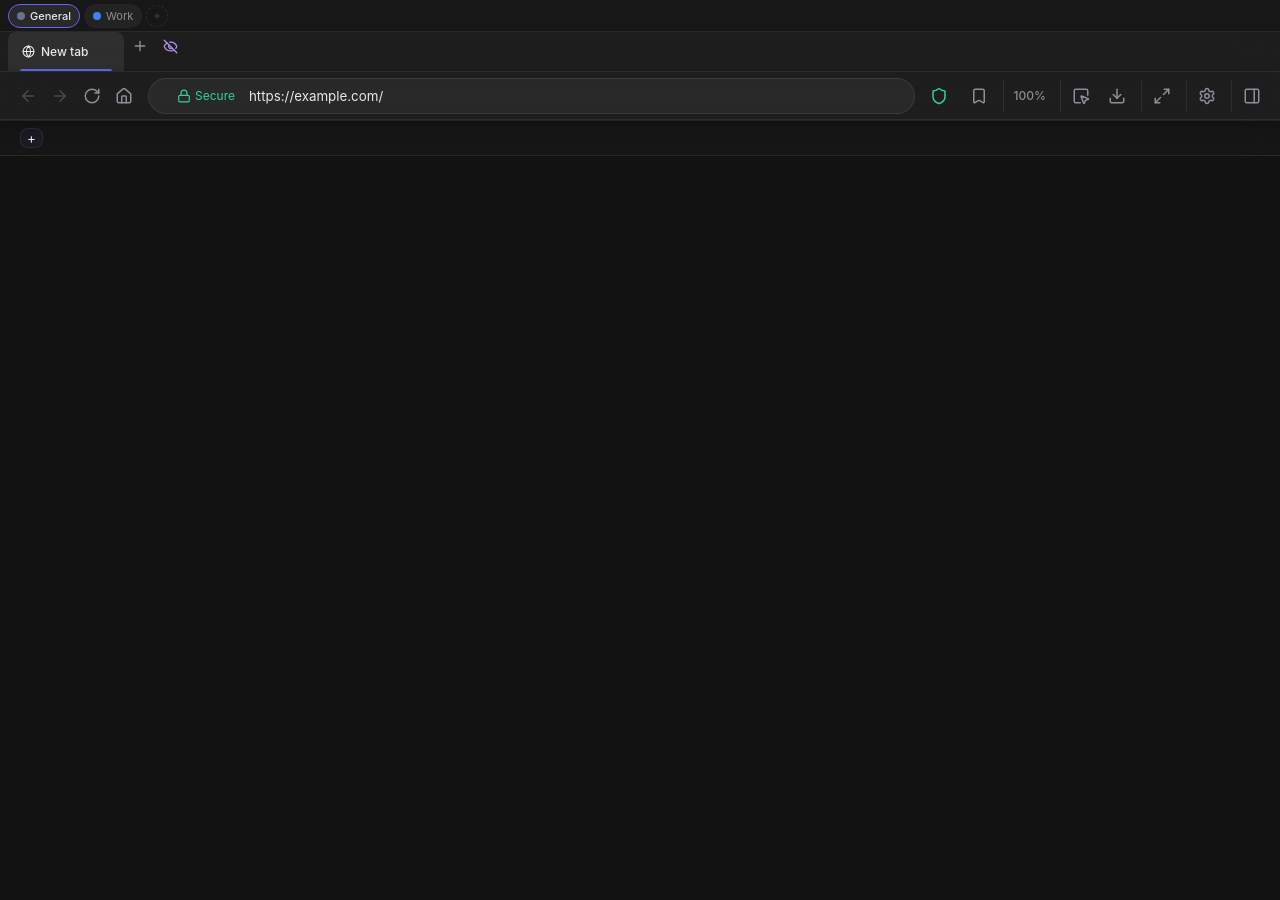
Test: App › the sidebar no longer exposes a Downloads tab
Click the button named "toggle sidebar": (1252, 96) x1=1236 y1=80 x2=1268 y2=112
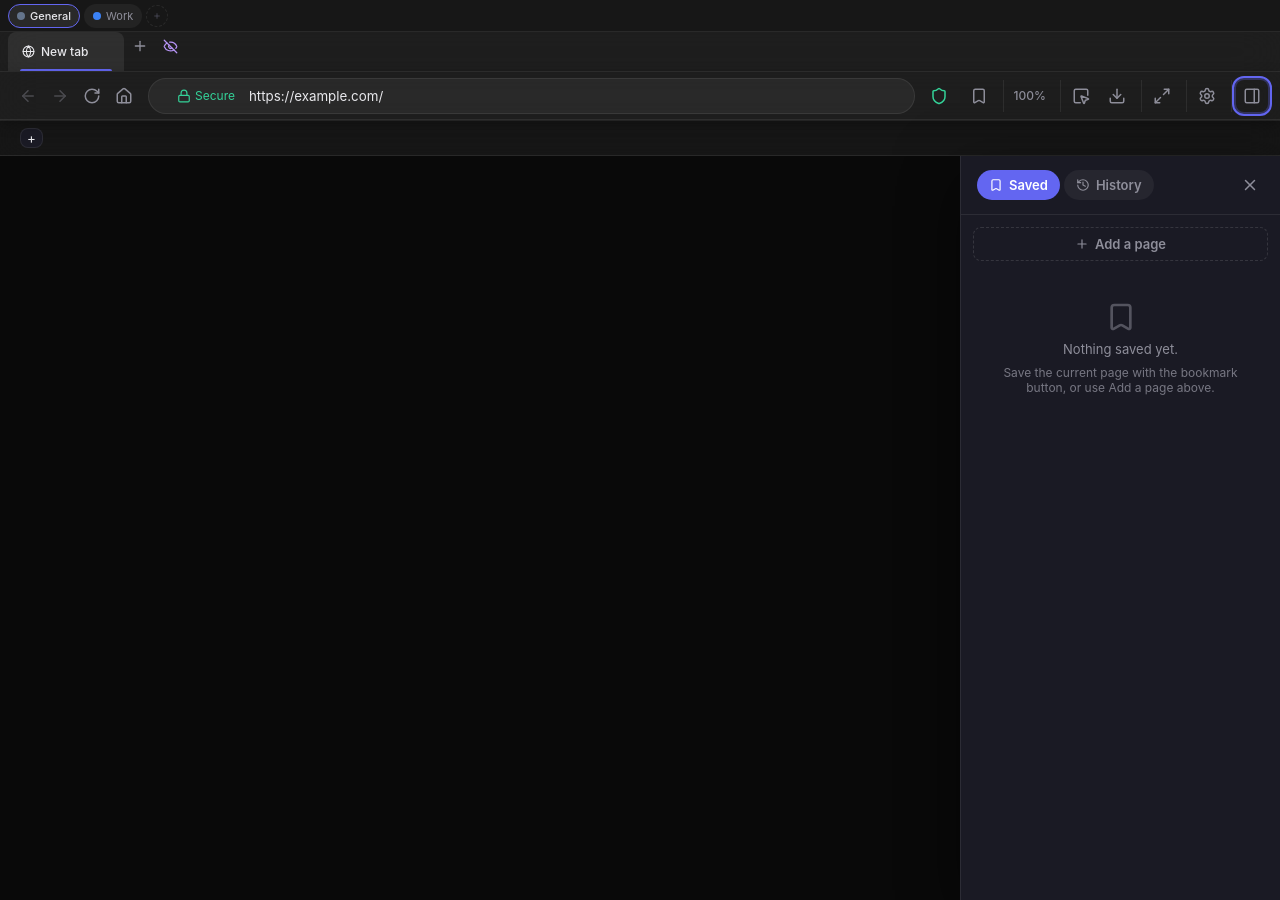
Expected: the element named "sidebar" is shown, x1=960 y1=156 x2=1279 y2=899
Expected: the tab "History" is shown, x1=1064 y1=170 x2=1154 y2=200
Expected: the tab "Saved" is shown, x1=977 y1=170 x2=1060 y2=200
